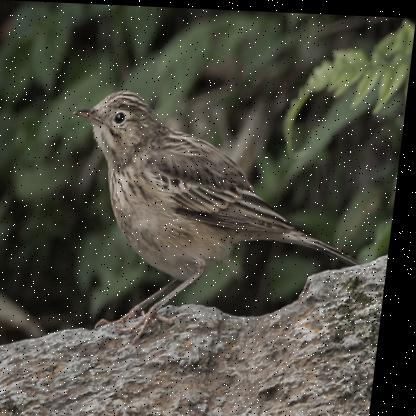Burung: (56, 88, 382, 337)
